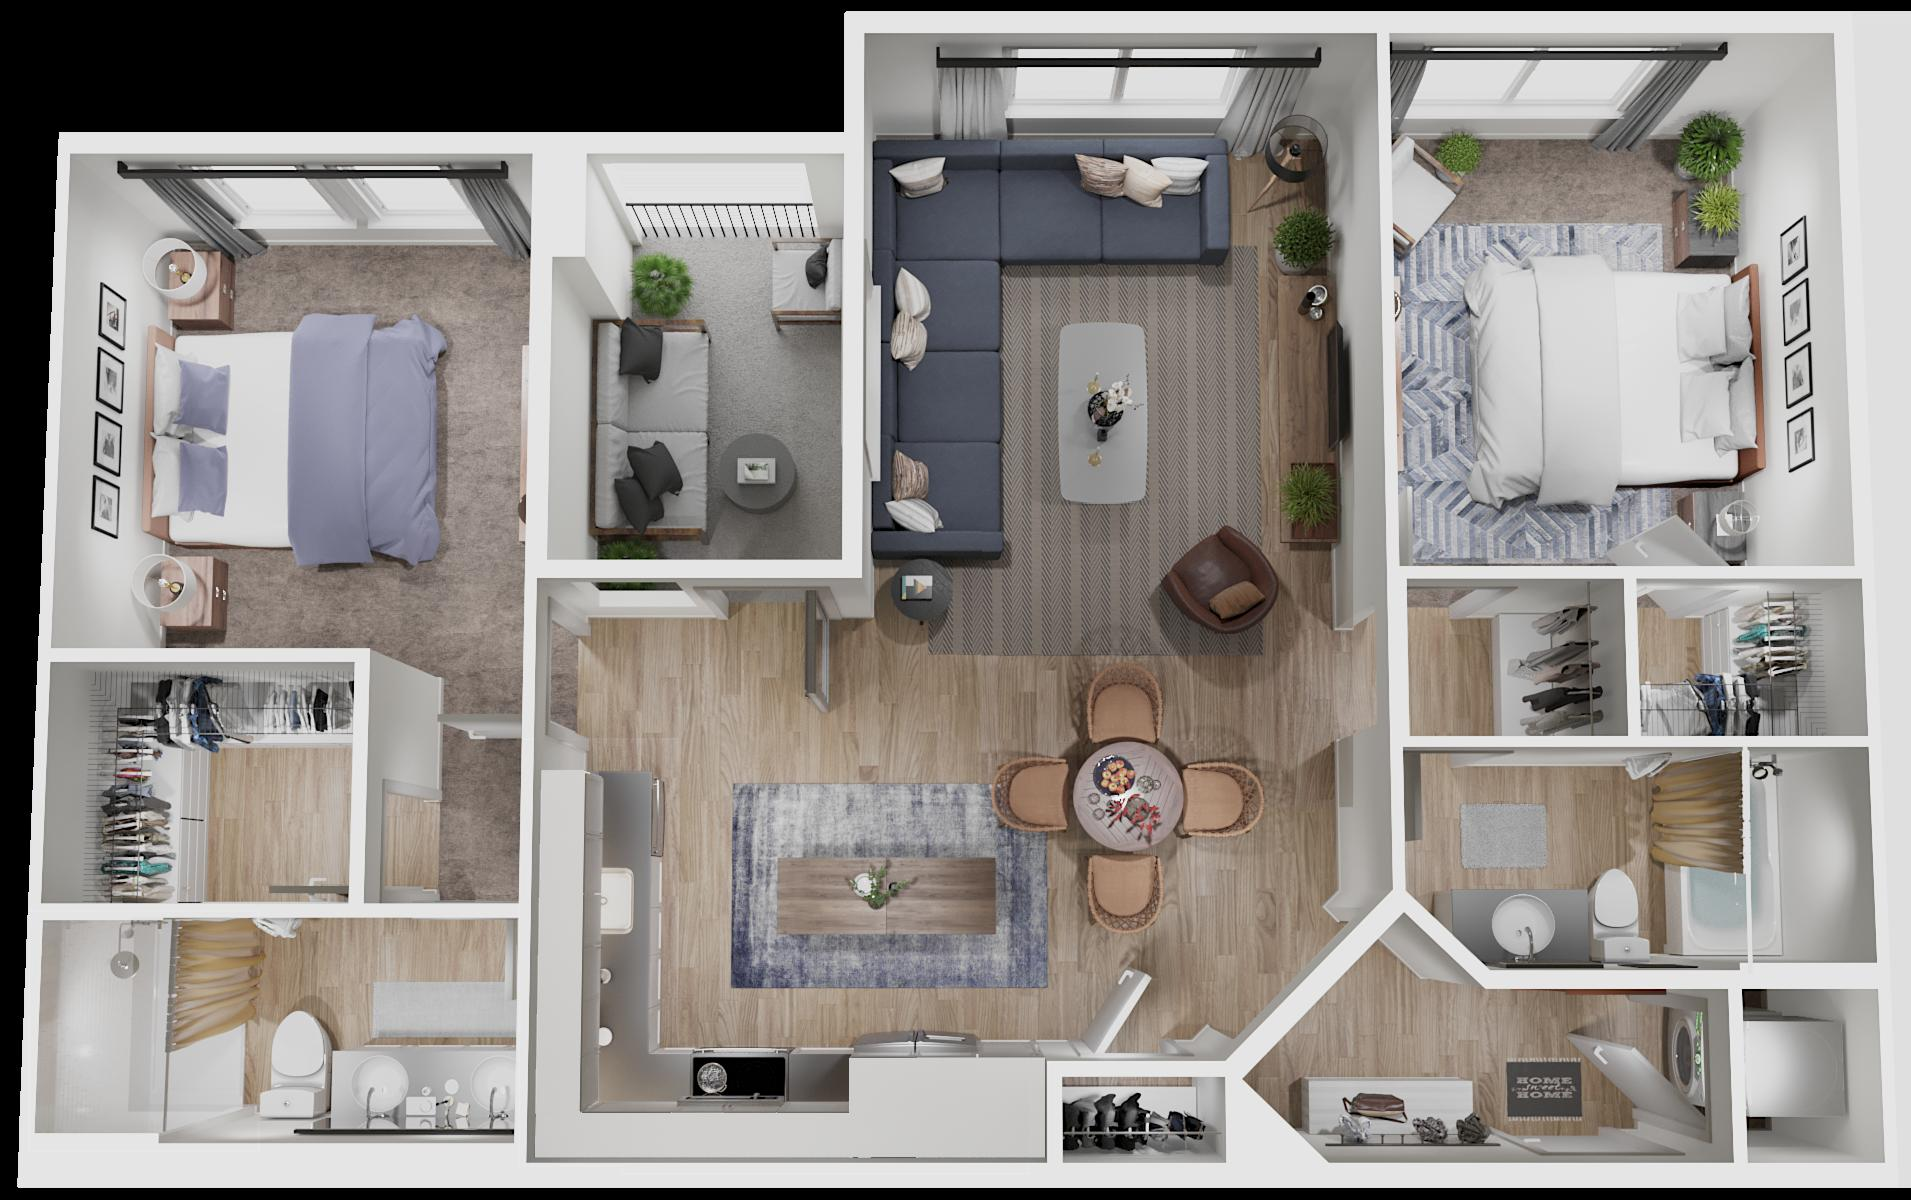room: (850, 25, 1397, 1141), (1390, 22, 1858, 570), (62, 147, 531, 650), (543, 151, 854, 567), (35, 912, 521, 1161), (1408, 748, 1889, 972), (1239, 980, 1729, 1176), (43, 655, 358, 906), (1633, 572, 1870, 738), (1401, 572, 1632, 740), (1741, 975, 1886, 1170)
